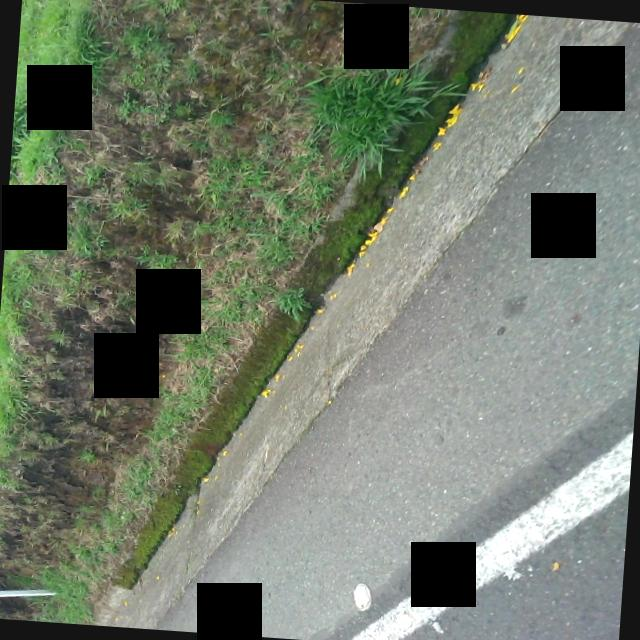DITCH: (62, 0, 640, 640), (89, 0, 640, 640)
